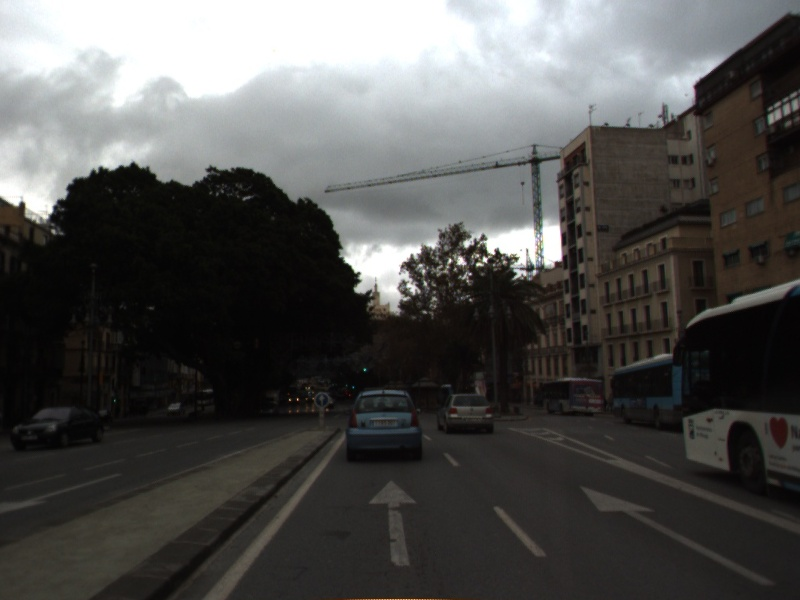STRAIGHT: (577, 483, 781, 589), (365, 477, 421, 569)
